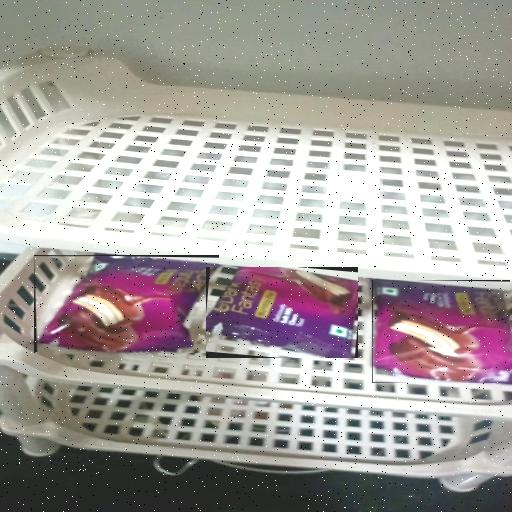Choco Pie: (34, 256, 219, 354), (372, 280, 510, 383), (206, 268, 358, 360)
